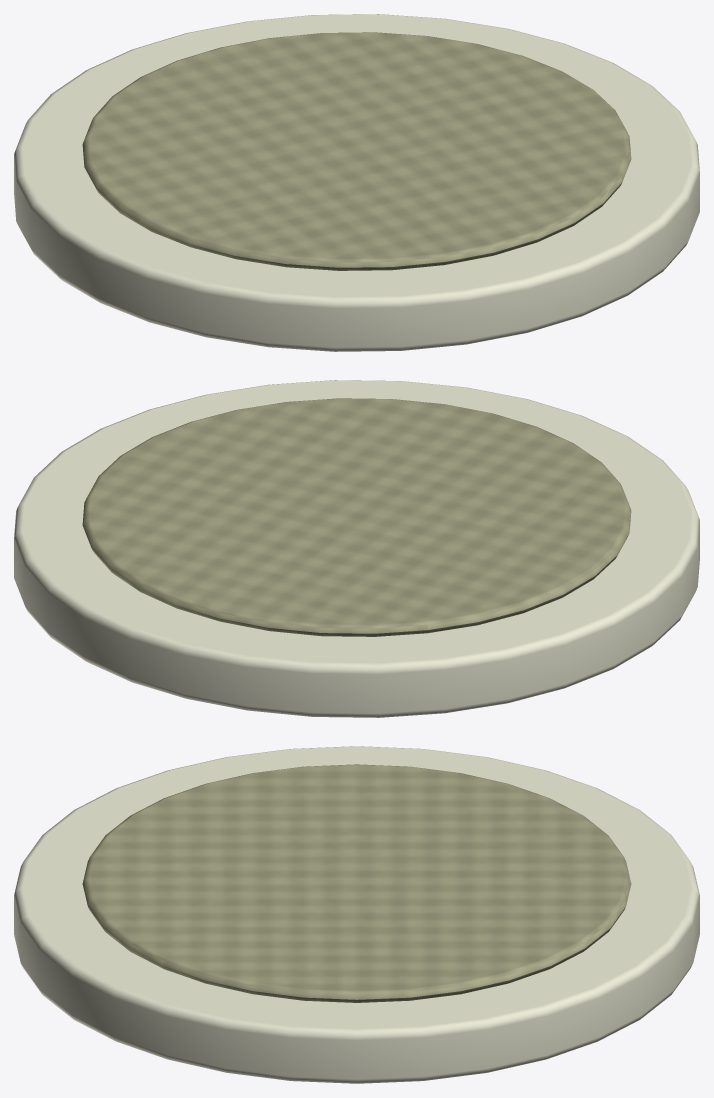
The model's file is plate.glb.
3 views of the same model, one above another, from view 1: azimuth 30°, elevation 25°; view 2: azimuth 150°, elevation 25°; view 3: azimuth 270°, elevation 25° (orthographic).
Parts seen in each view (by area): view 1: V2_plate_cloth.005, V2_plate_white.005; view 2: V2_plate_cloth.005, V2_plate_white.005; view 3: V2_plate_cloth.005, V2_plate_white.005.
Part boxes in pixels (<box>): V2_plate_cloth.005: <box>82,32,631,270</box>; V2_plate_white.005: <box>14,14,699,351</box>; V2_plate_cloth.005: <box>82,398,631,636</box>; V2_plate_white.005: <box>14,380,699,717</box>; V2_plate_cloth.005: <box>82,764,631,1002</box>; V2_plate_white.005: <box>14,746,699,1083</box>.
Size of the model in its own units: 0.4 by 0.0415 by 0.4.
2 materials, 1 textured.
